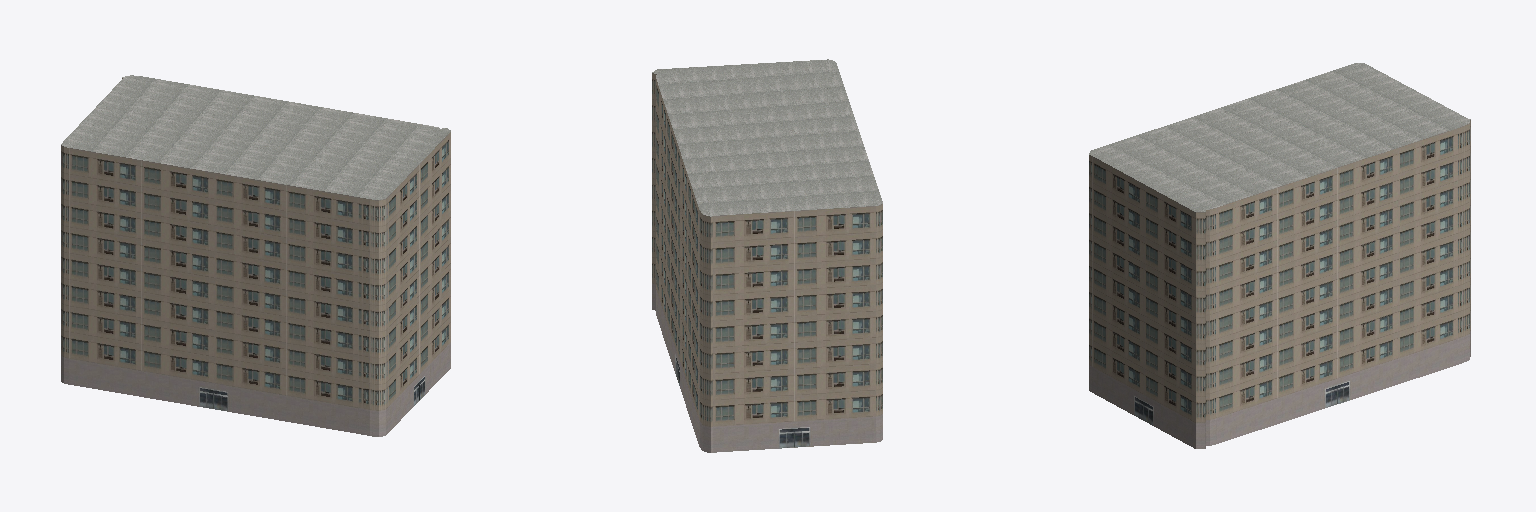
The picture shows the model from 3 angles: view 1: azimuth 30°, elevation 25°; view 2: azimuth 150°, elevation 25°; view 3: azimuth 270°, elevation 25°; orthographic projection.
Parts seen in each view (by area): view 1: BuildingMaster_[number redacted]_0, BuildingMaster_[number redacted]_1; view 2: BuildingMaster_[number redacted]_0, BuildingMaster_[number redacted]_1; view 3: BuildingMaster_[number redacted]_0, BuildingMaster_[number redacted]_1.
Boxes of the visible parts, <box> form: BuildingMaster_[number redacted]_0: <box>61,78,450,436</box>; BuildingMaster_[number redacted]_1: <box>61,75,450,199</box>; BuildingMaster_[number redacted]_0: <box>652,73,882,452</box>; BuildingMaster_[number redacted]_1: <box>652,59,882,216</box>; BuildingMaster_[number redacted]_0: <box>1089,120,1470,448</box>; BuildingMaster_[number redacted]_1: <box>1089,63,1470,211</box>.
Size of the model in its own units: 42.74 by 31.5 by 45.98.
2 materials, 2 textured.